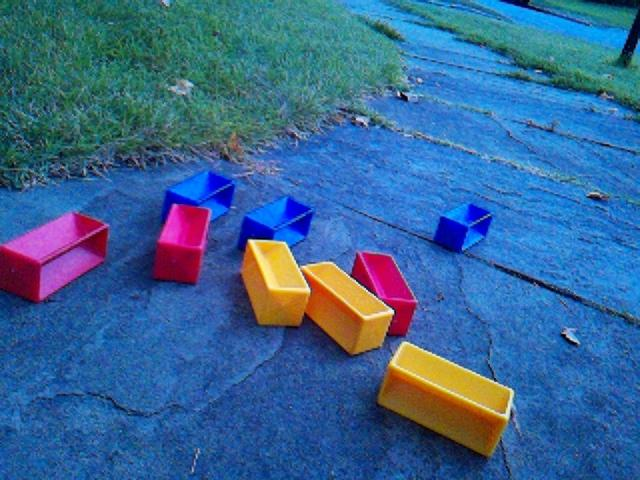blue: (237, 195, 315, 252), (160, 169, 236, 226), (433, 201, 493, 254)
red: (1, 209, 111, 303), (351, 250, 419, 337), (152, 203, 212, 285)
yellow: (377, 340, 516, 459), (300, 260, 395, 356), (241, 238, 311, 328)
